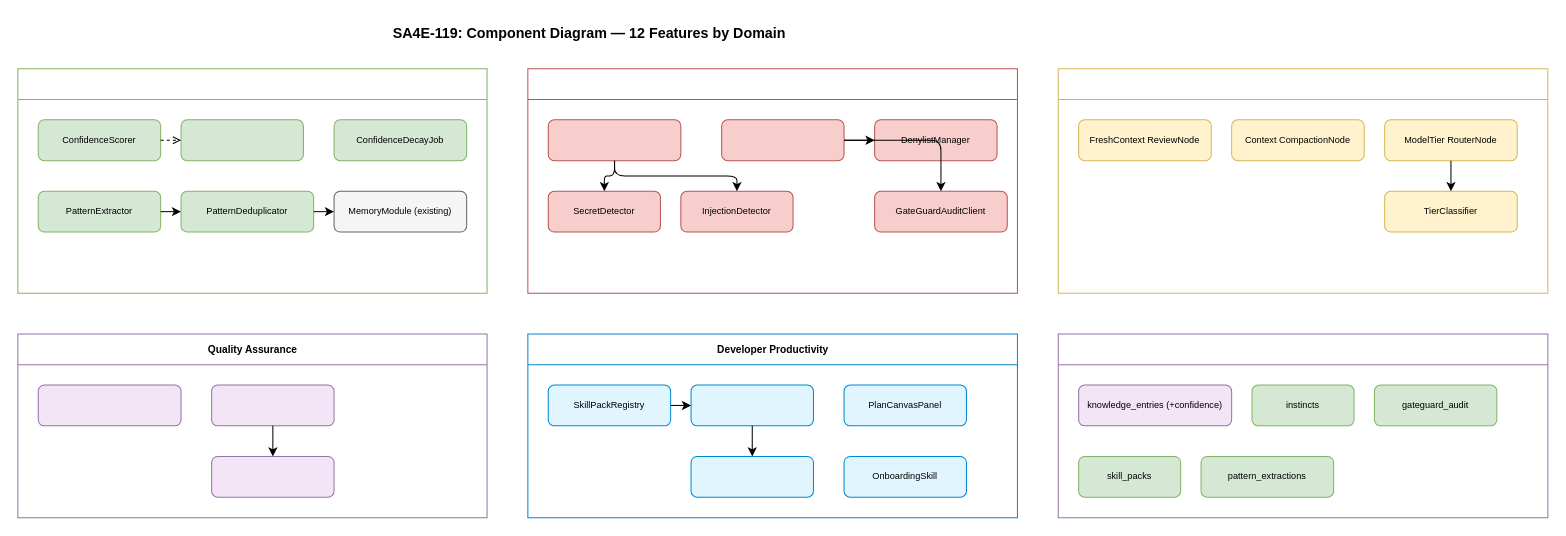
The diagram is 1566 pixels wide and 536 high, and some of its shapes have lost their labels. The shapes that lost their labels are listed below. From the top down, each one's box as (x1, y1, x2, y2) in pixels, then its label:
(180, 119, 303, 161): InstinctEngine
(547, 119, 681, 161): AgentShieldScanner
(721, 119, 844, 161): GateGuardHook
(17, 68, 487, 293): Knowledge Enhancement
(527, 68, 1017, 293): Security and Safety
(1057, 68, 1548, 293): Context Management
(37, 384, 181, 426): AdversarialReviewEngine
(211, 384, 334, 426): CouncilEngine
(690, 384, 813, 426): SkillPackLoader
(1057, 333, 1548, 518): Data Layer (SQLite)
(211, 455, 334, 497): VoicePersona
(690, 455, 813, 497): SkillPackComposer
